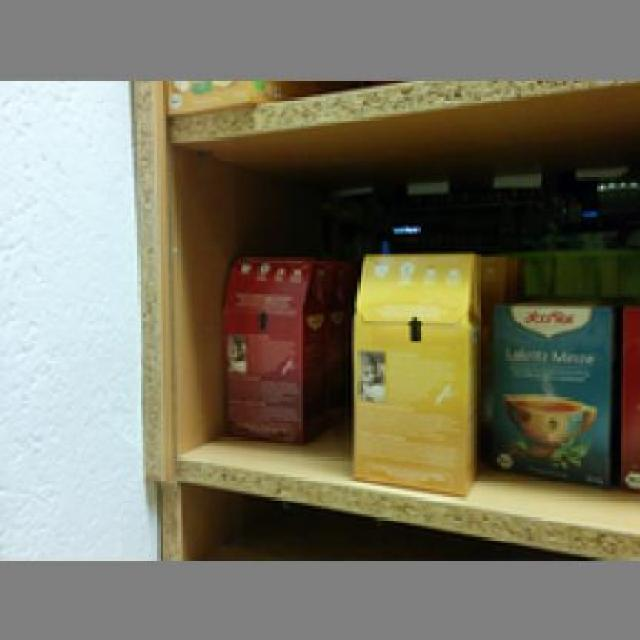Tea: (348, 248, 478, 494), (492, 297, 614, 483), (221, 254, 325, 440)
